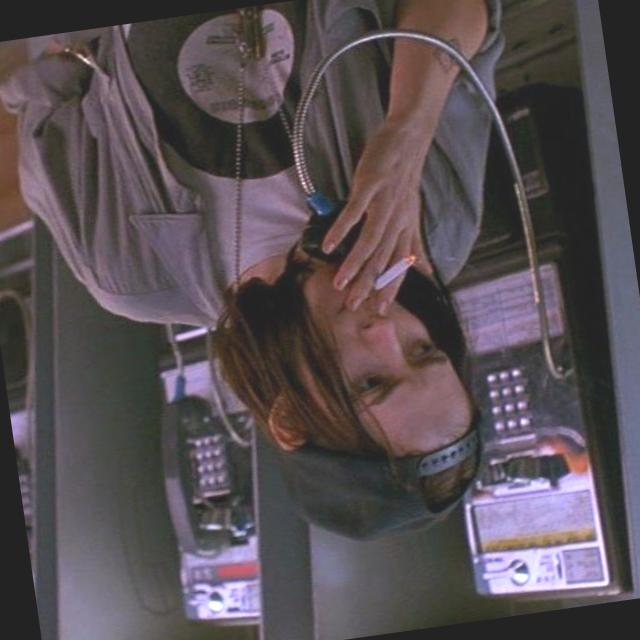smoke: (342, 243, 442, 296)
